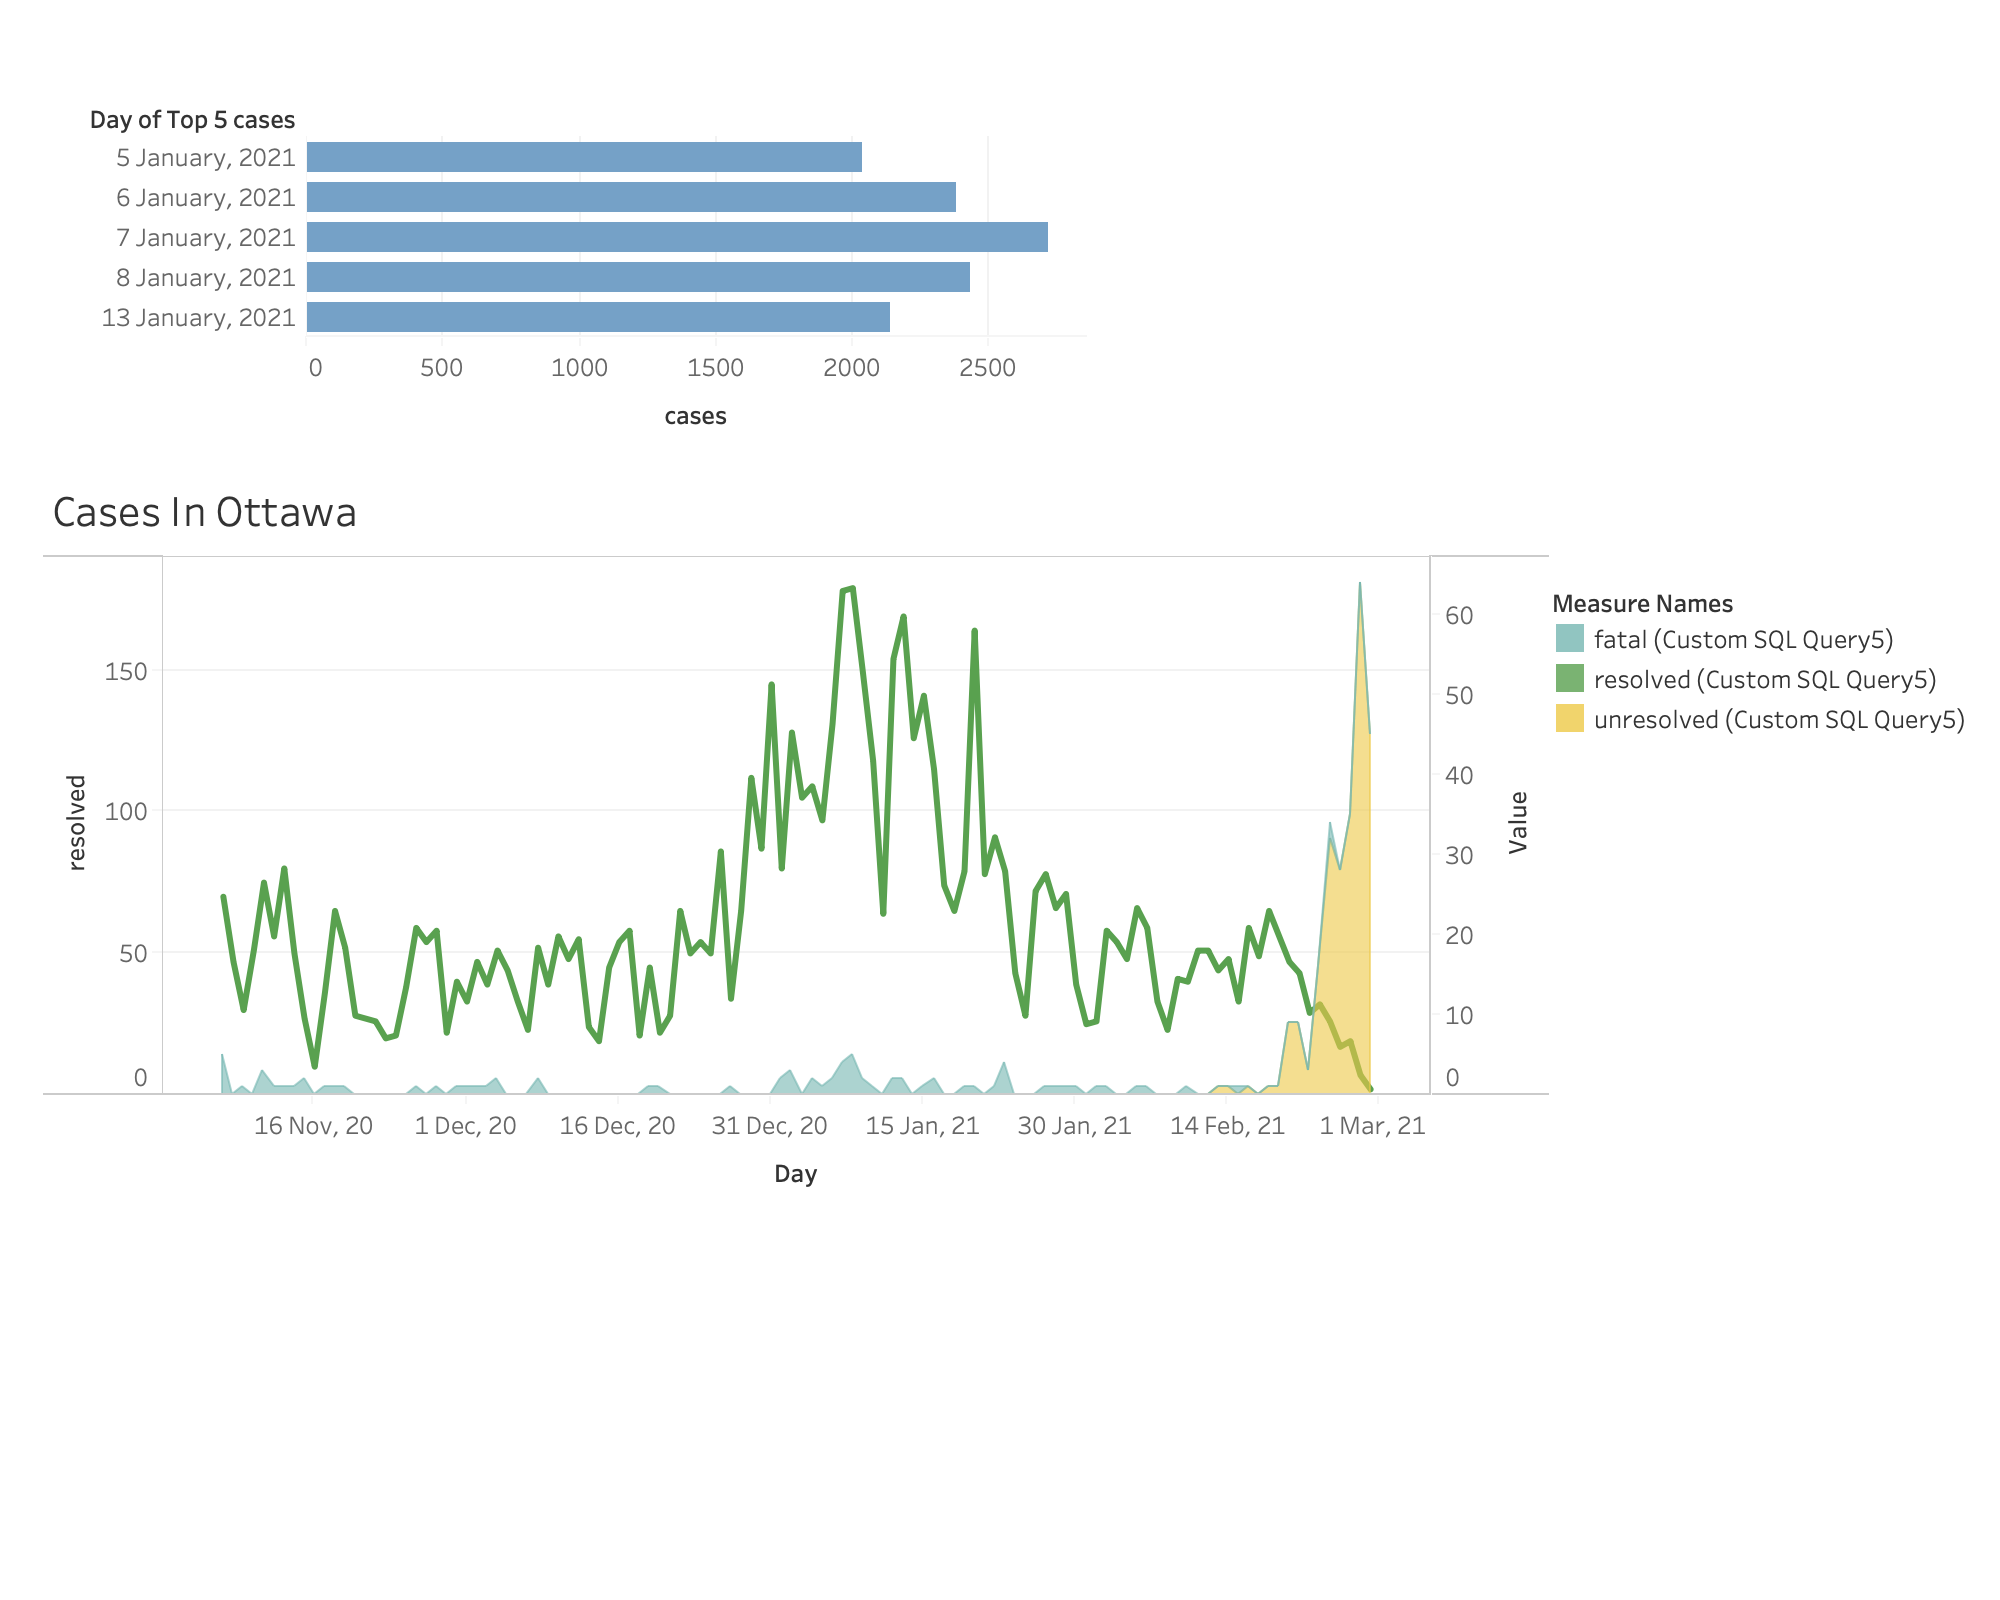

Layout of this report page (visuals, bound fields, positions):
{"tool":"tableau","page":{"name":"Dashboard 3","canvas":[1000,800],"ordinal":2},"visuals":[{"type":"worksheet","title":"to","mark":"Bar","rows":["day (Custom SQL Query3)"],"cols":["cases (Custom SQL Query3)"],"box":[33,33,510,236]},{"type":"worksheet","title":"ottawa","mark":"Line","rows":["resolved (Custom SQL Query5)"],"cols":["date (Custom SQL Query5)"],"box":[22,235,753,368]},{"type":"worksheet","title":"ottawa","mark":"Line","rows":["resolved (Custom SQL Query5)"],"cols":["date (Custom SQL Query5)"],"param":"[federated.1rprhto1wan1ua1exkw2b1lt2y8d].[:Measure Names]","box":[775,291,212,78]}]}

Visuals, with their boxes in screenshot pixels (x1, y1, x2, y2), scaled from the page's 1000x800 canvas onto the 2000x1600 screenshot:
"to" worksheet (Bar marks): crop(66, 66, 1086, 538)
"ottawa" worksheet (Line marks): crop(44, 470, 1550, 1206)
"ottawa" worksheet (Line marks): crop(1550, 582, 1974, 738)
